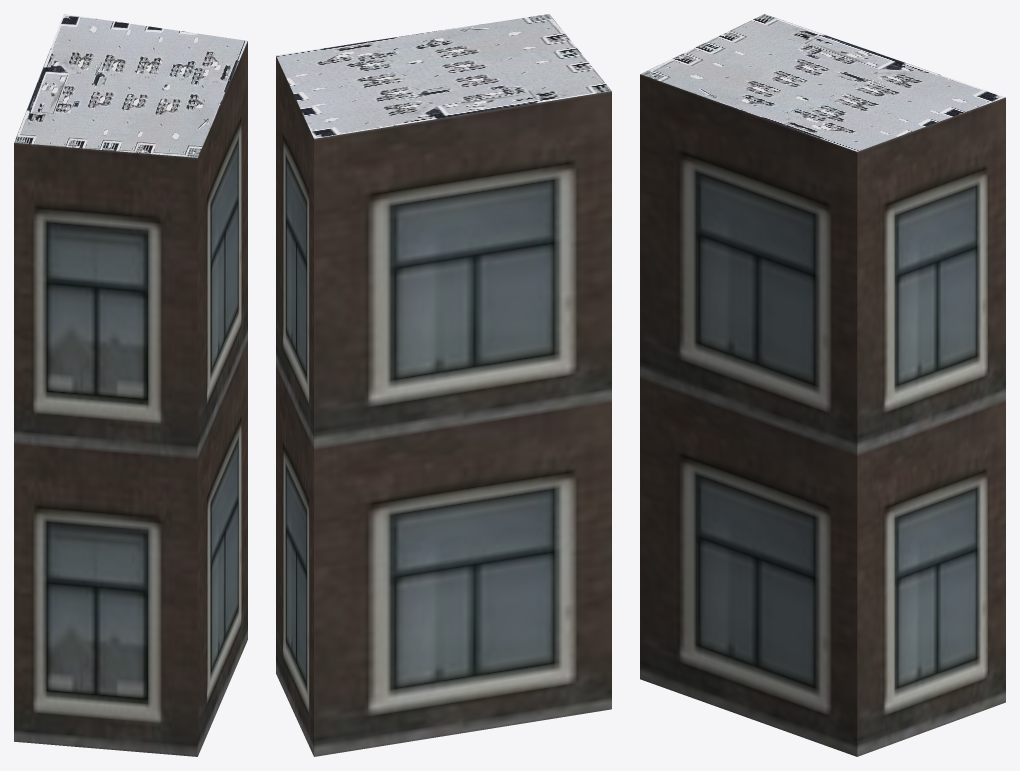
The model's file is ResTex__1180.fbx.
3 views of the same model, side by side, from view 1: azimuth 30°, elevation 25°; view 2: azimuth 150°, elevation 25°; view 3: azimuth 270°, elevation 25° (orthographic). The views are drawn at different scales.
Visible parts, largest first — view 1: CityEngineMaterial_16_m, CityEngineMaterial_15_m; view 2: CityEngineMaterial_16_m, CityEngineMaterial_15_m; view 3: CityEngineMaterial_16_m, CityEngineMaterial_15_m.
Part boxes in pixels (x1,y1,x2,y2): CityEngineMaterial_16_m: [14, 41, 247, 756]; CityEngineMaterial_15_m: [14, 14, 247, 157]; CityEngineMaterial_16_m: [276, 56, 611, 756]; CityEngineMaterial_15_m: [276, 14, 611, 138]; CityEngineMaterial_16_m: [640, 74, 1005, 756]; CityEngineMaterial_15_m: [640, 14, 1005, 151].
Size of the model in its own units: 2.93 by 6 by 3.29.
Materials: 2 (2 with a texture image).
